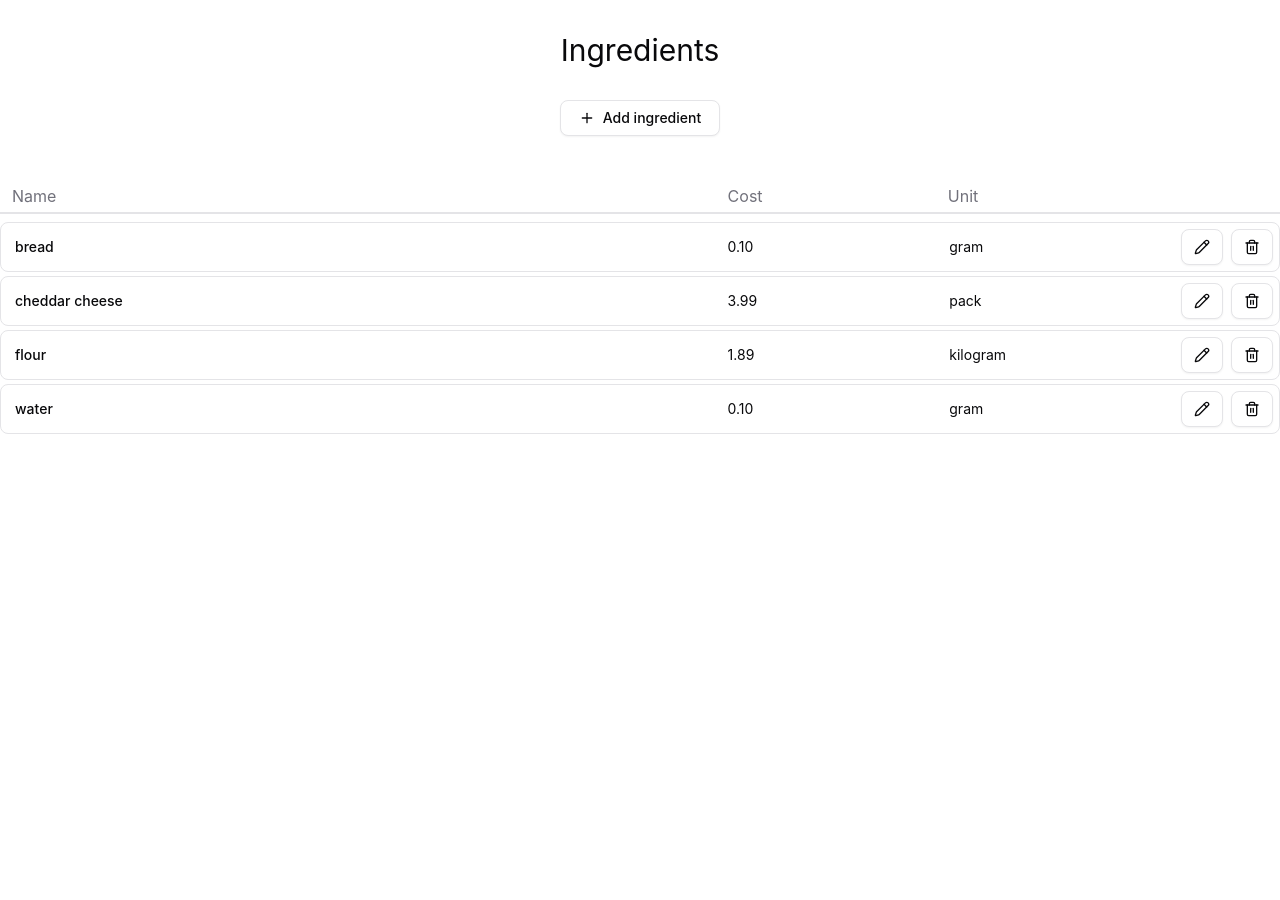
it: Ingredients › conditional UI › renders the create ingredient form when the add ingredient button is clicked
What coordinates should you click on to do the following:
click the button "Add ingredient"
I would click on:
 (640, 118)
Its box is [560, 100, 720, 136].
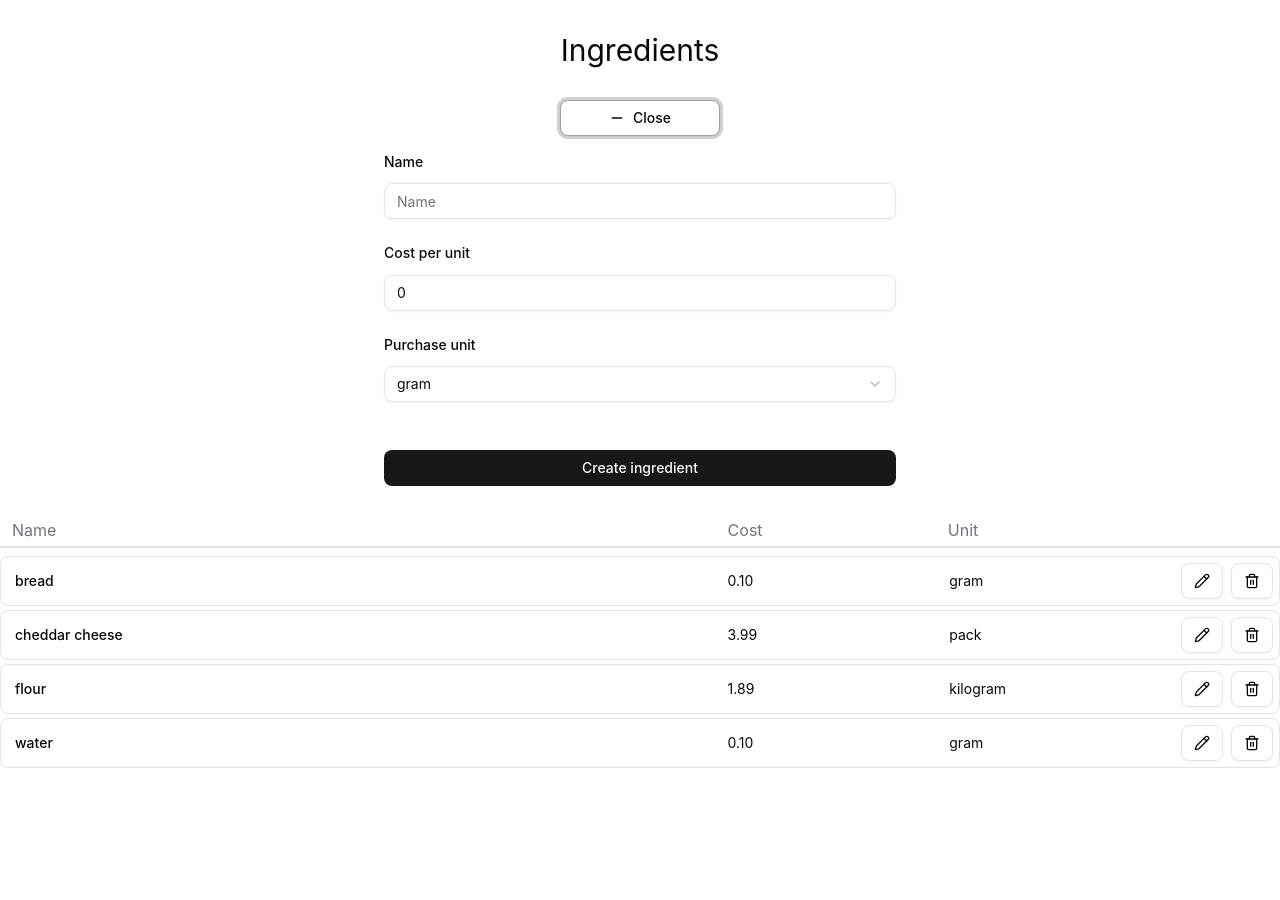
Check: the form named "Create ingredient form" is shown, box [384, 152, 896, 486]
Check: the button "Close" is shown, box [560, 100, 720, 136]
